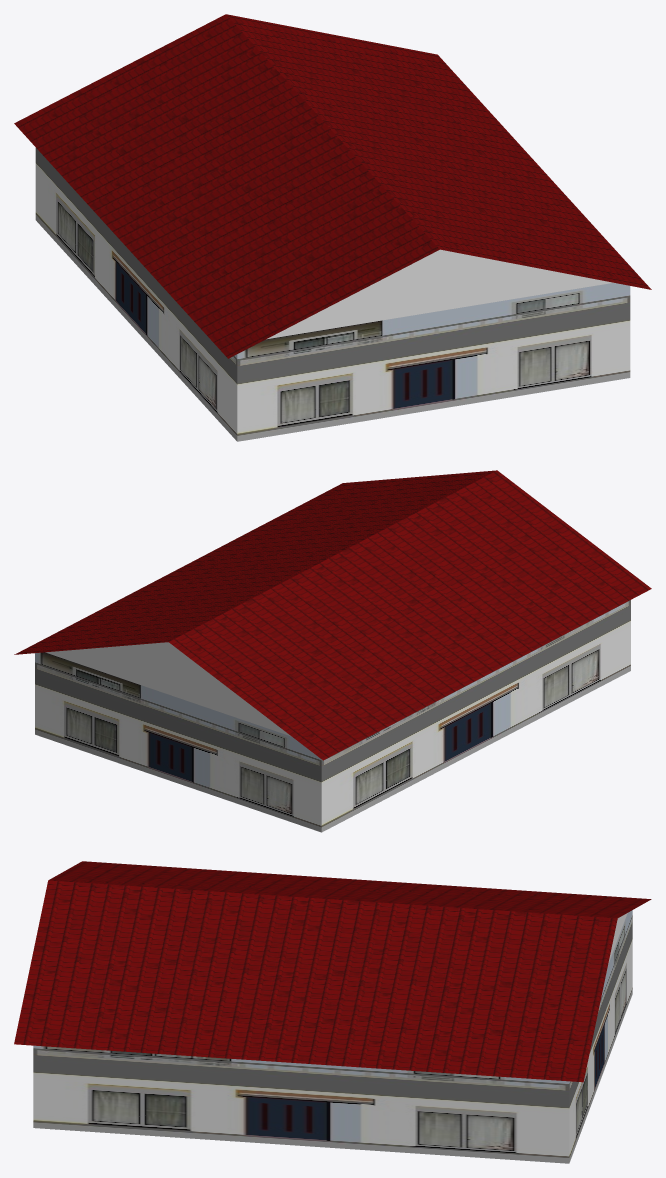
3 views of the same model, one above another, from view 1: azimuth 30°, elevation 25°; view 2: azimuth 150°, elevation 25°; view 3: azimuth 270°, elevation 25° (orthographic). The views are drawn at different scales.
Parts seen in each view (by area): view 1: CityEngineMaterial_17_m, CityEngineMaterial_7_m, CityEngineMaterial_3_m; view 2: CityEngineMaterial_17_m, CityEngineMaterial_7_m, CityEngineMaterial_3_m; view 3: CityEngineMaterial_17_m, CityEngineMaterial_7_m.
Part boxes in pixels (bbox=[...]): CityEngineMaterial_17_m: bbox=[14, 14, 651, 358]; CityEngineMaterial_7_m: bbox=[35, 147, 630, 441]; CityEngineMaterial_3_m: bbox=[266, 249, 613, 339]; CityEngineMaterial_17_m: bbox=[14, 470, 651, 760]; CityEngineMaterial_7_m: bbox=[35, 600, 630, 832]; CityEngineMaterial_3_m: bbox=[45, 642, 291, 736]; CityEngineMaterial_17_m: bbox=[14, 861, 651, 1082]; CityEngineMaterial_7_m: bbox=[33, 910, 632, 1163].
Bounding box in the file's own units: 30.81 × 10.5 × 37.57.
